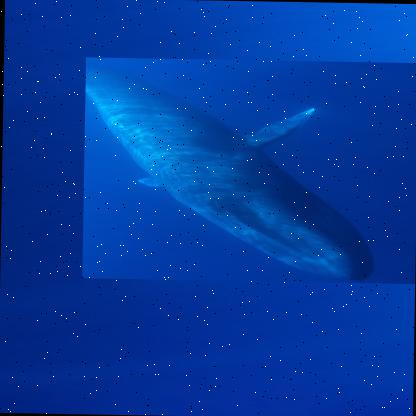blue_whale: (79, 55, 415, 285)
